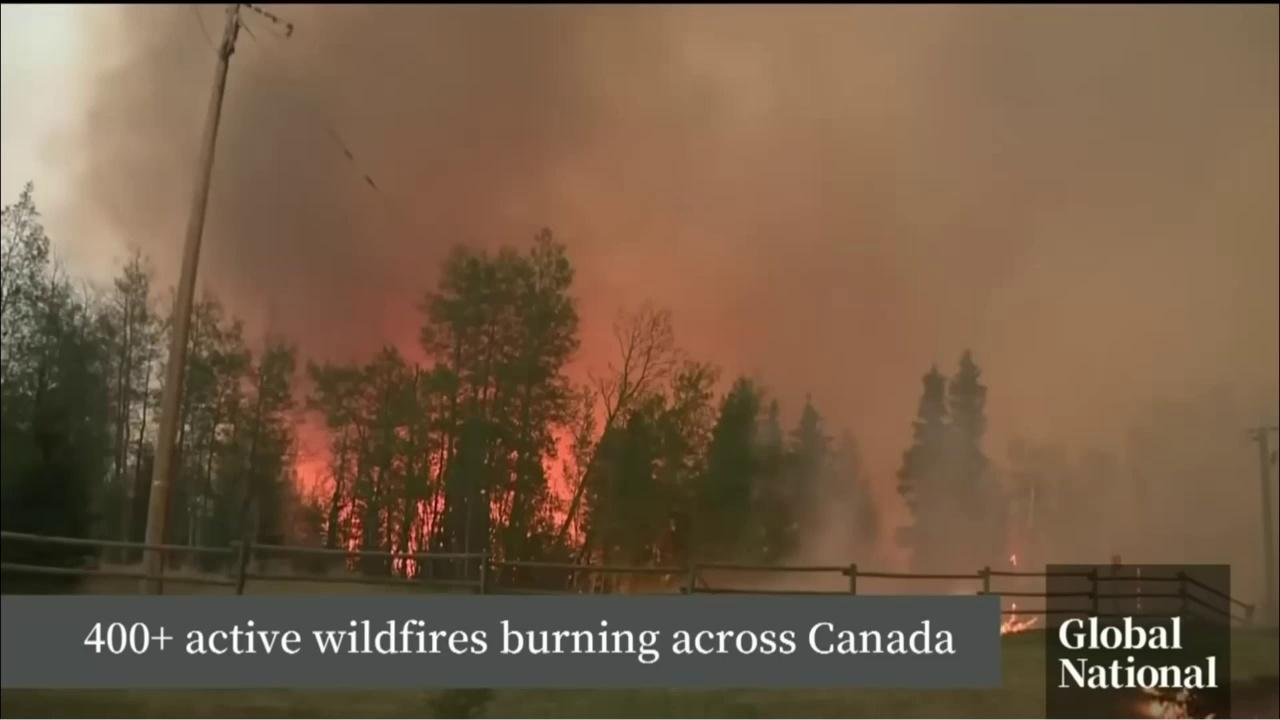fire: (998, 599, 1038, 635), (1009, 550, 1021, 571)
smoke: (43, 5, 1277, 637)
